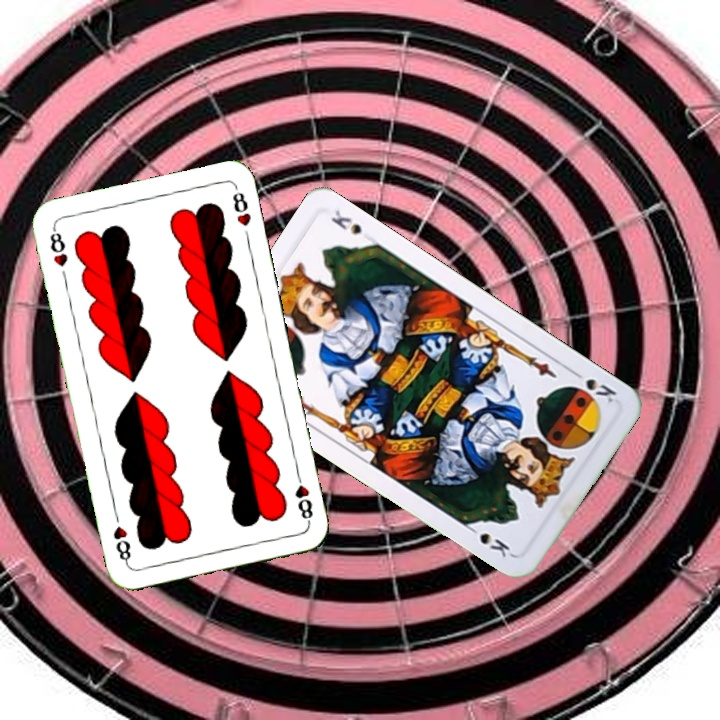H8: (291, 467, 316, 526), (46, 224, 70, 270)
SK: (567, 366, 620, 406)
